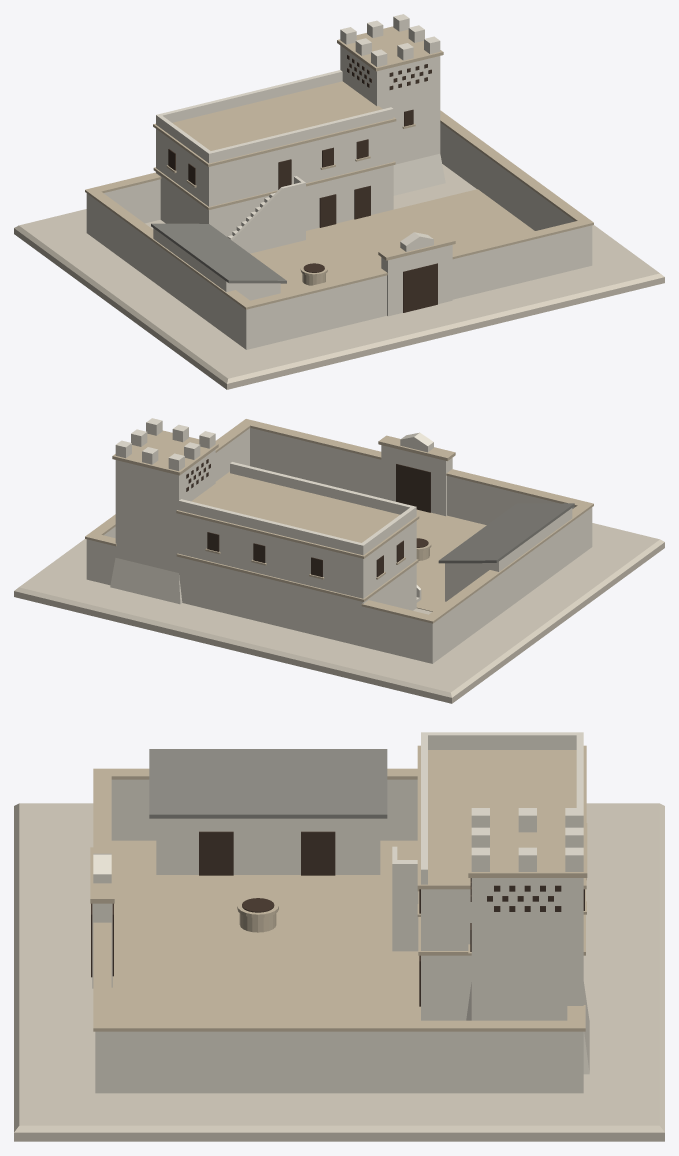
The model's file is modello.glb.
3 renders of one model, top to bottom at view 1: azimuth 30°, elevation 25°; view 2: azimuth 150°, elevation 25°; view 3: azimuth 270°, elevation 25°, orthographic. The views are drawn at different scales.
Parts seen in each view (by area): view 1: Masseria del Segnaposto; view 2: Masseria del Segnaposto; view 3: Masseria del Segnaposto.
Part boxes in pixels (x1,y1,x2,y2): Masseria del Segnaposto: [14, 14, 664, 389]; Masseria del Segnaposto: [14, 418, 664, 703]; Masseria del Segnaposto: [14, 732, 664, 1141].
Size of the model in its own units: 0.35 by 0.1152 by 0.2947.
